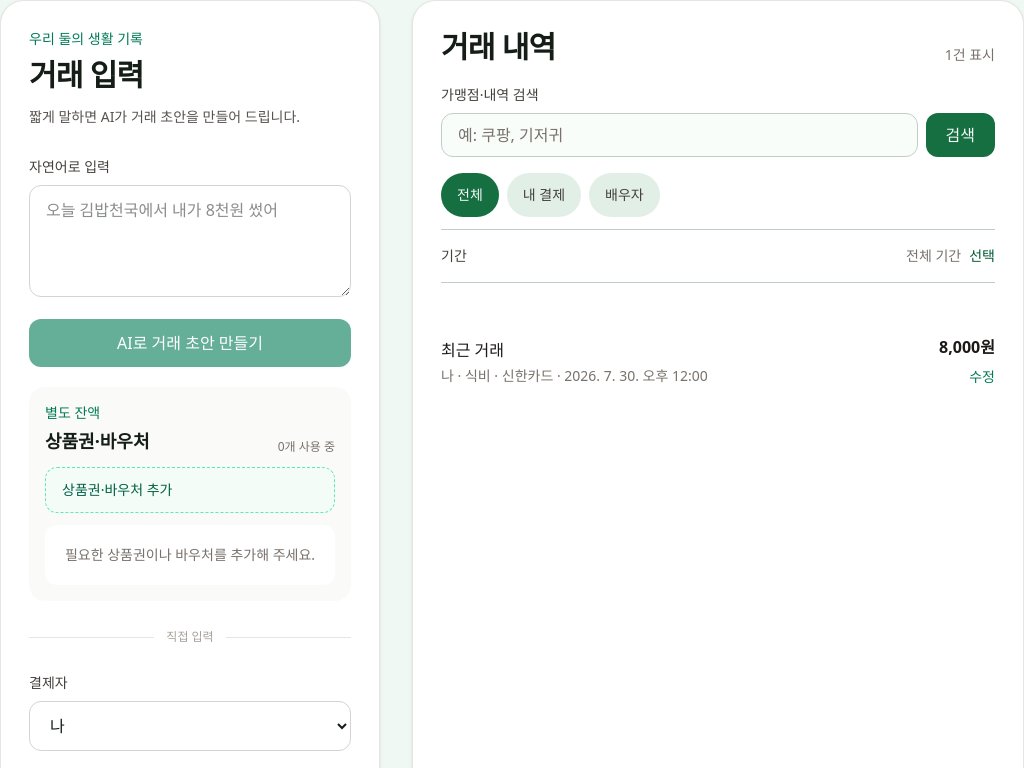
Test: TransactionsPage › searches by text and date range while preserving filters across cursor pages
Expected: the text "최근 거래" is shown, [441,338,504,360]
Type "쿠팡" into the search field labelled "가맹점·내역 검색" at (679, 135), box [441,113,918,157]
Click the button "검색" at (960, 135), box [926,113,995,157]
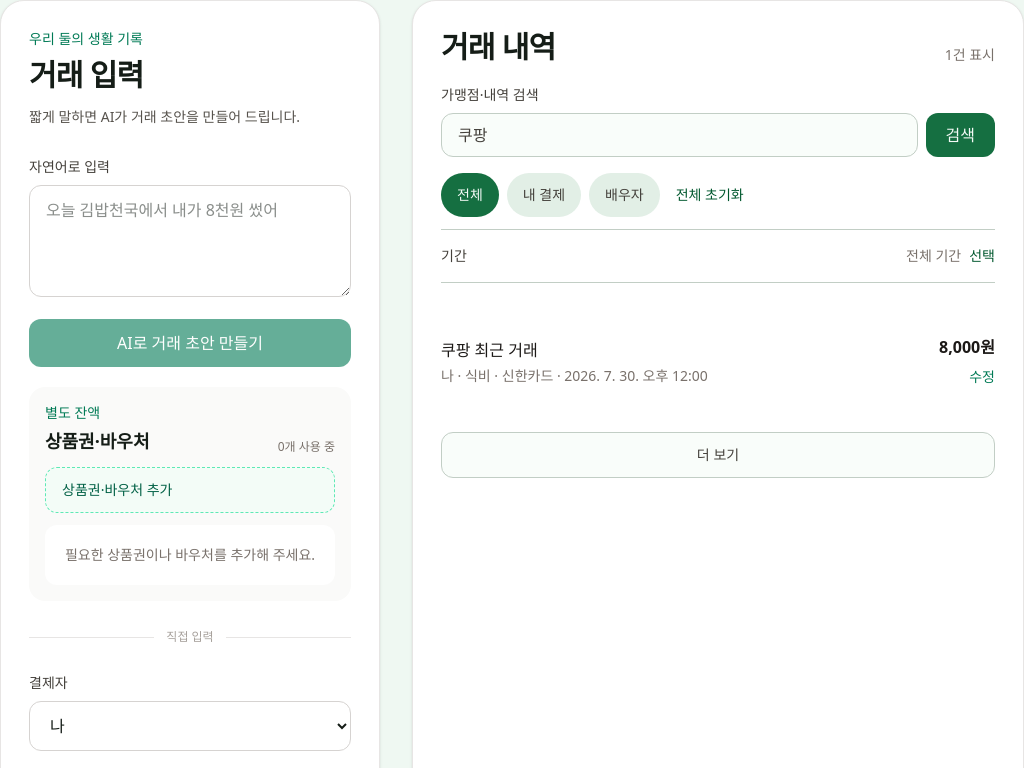
Expected: the text "쿠팡 최근 거래" is shown, [441,338,538,360]
Click the text "기간" at (454, 256), box [441,246,467,266]
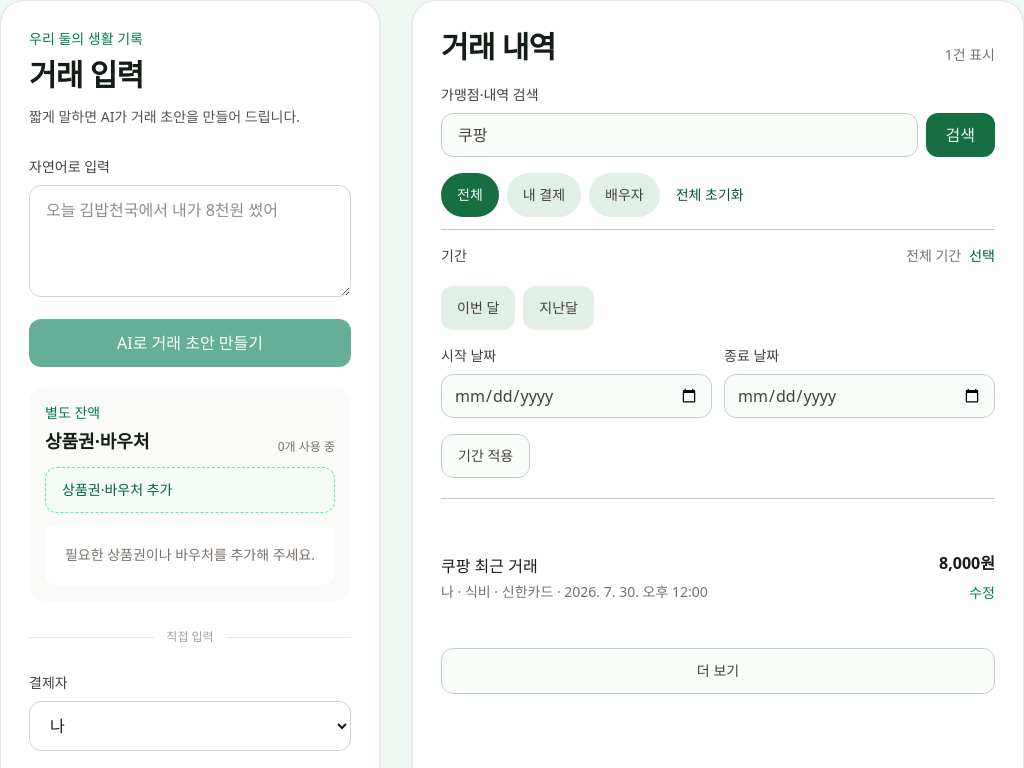
Type "2026-08-01" into the date field labelled "시작 날짜" at (576, 396), box [441,374,712,418]
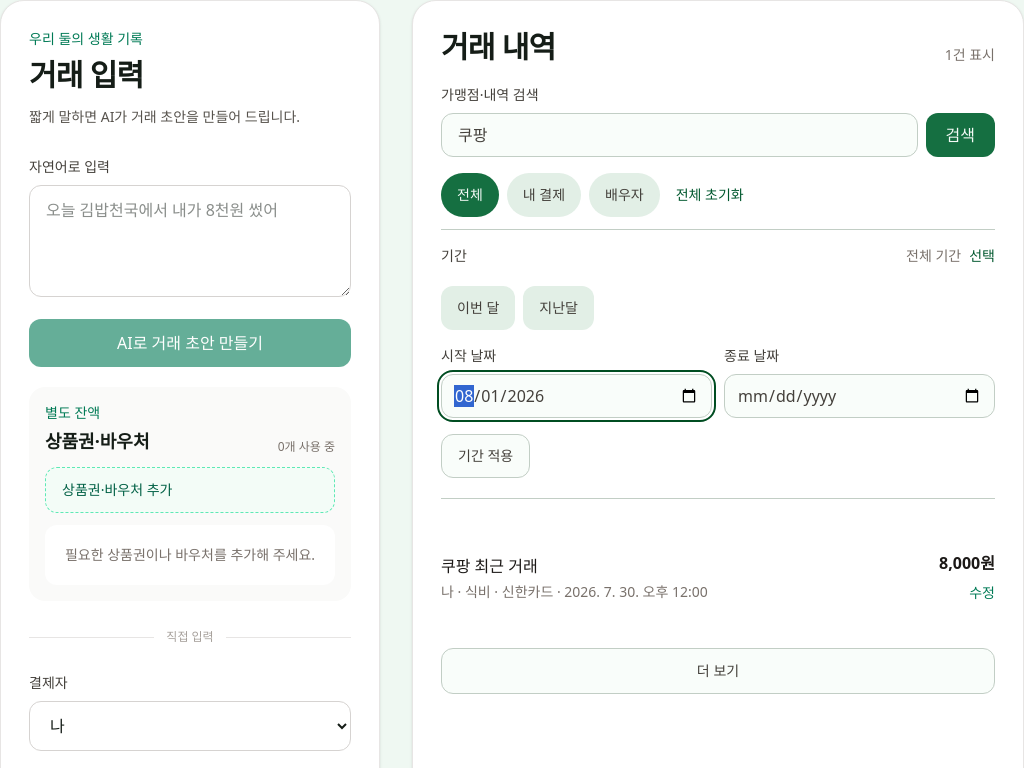
Type "2026-08-31" into the date field labelled "종료 날짜" at (860, 396), box [724,374,995,418]
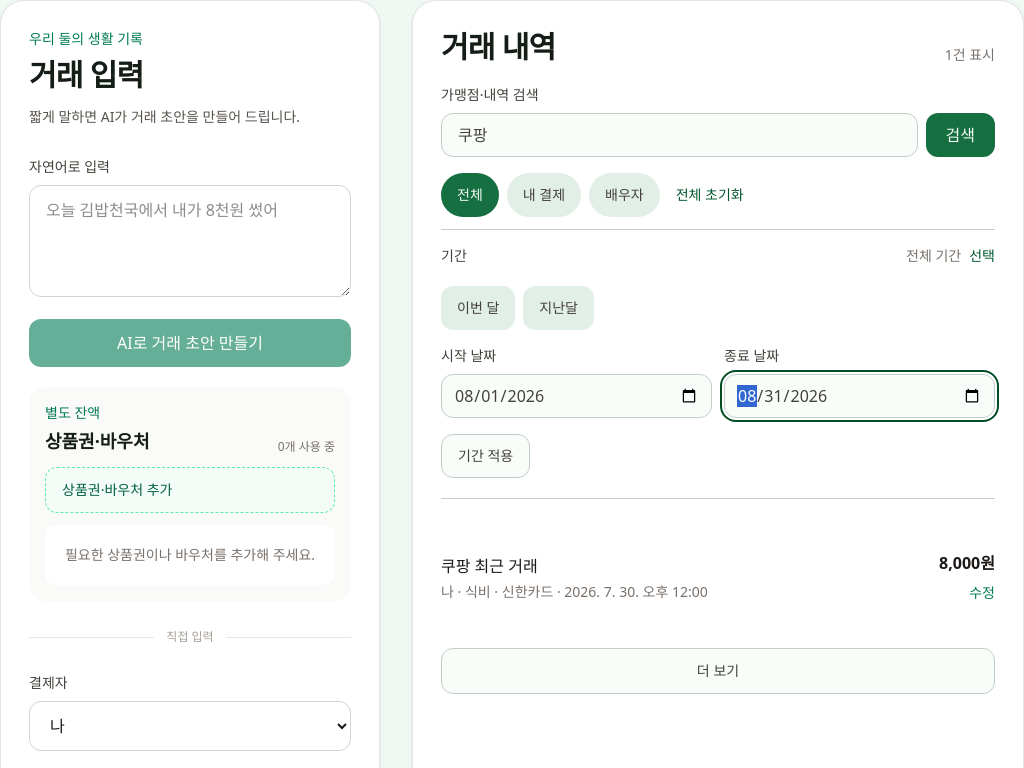
Click the button "기간 적용" at (486, 456), box [441,434,530,478]
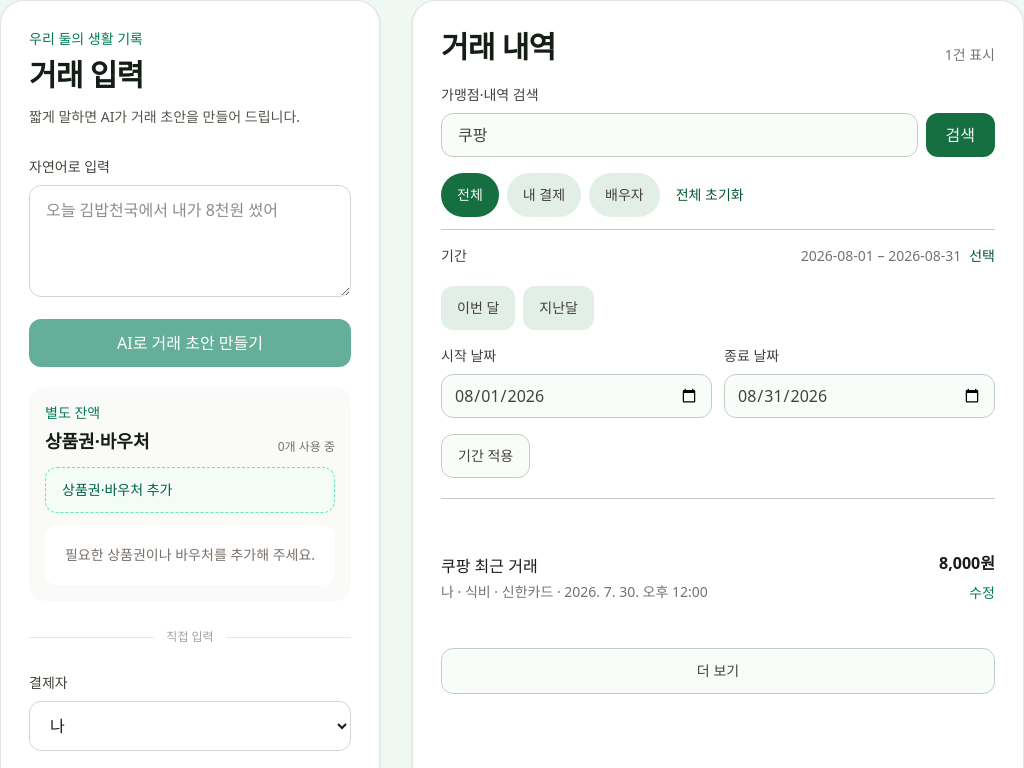
Click the button "더 보기" at (718, 671), box [441,648,995,694]
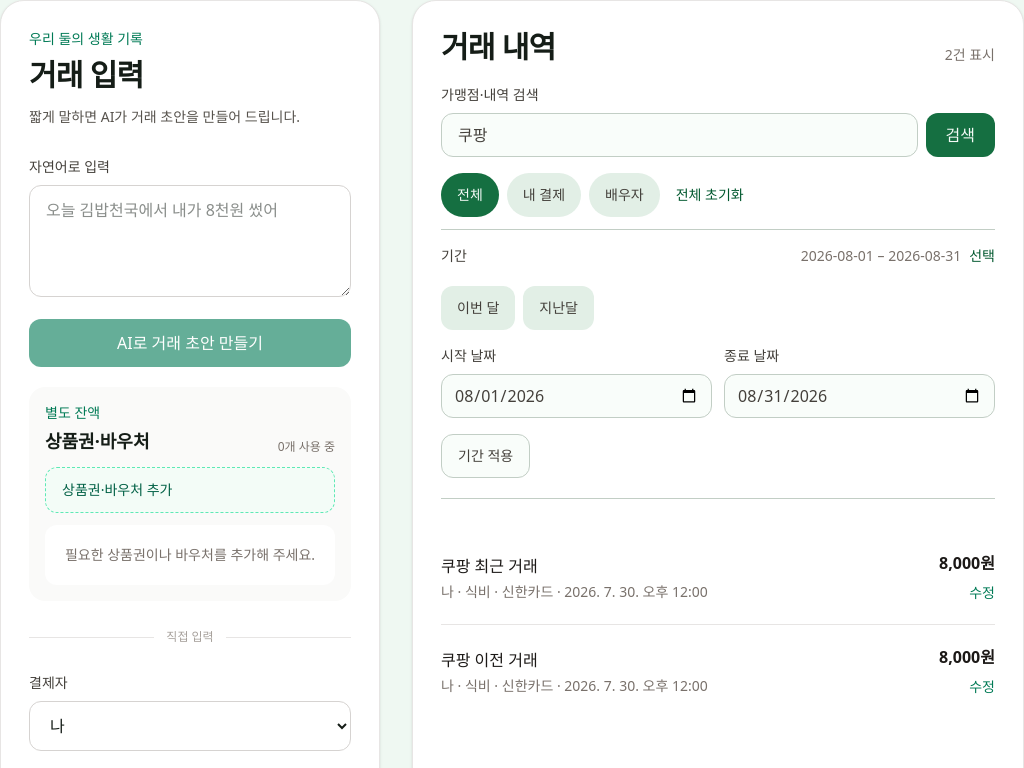
Expected: the text "쿠팡 이전 거래" is shown, [441,648,538,670]
